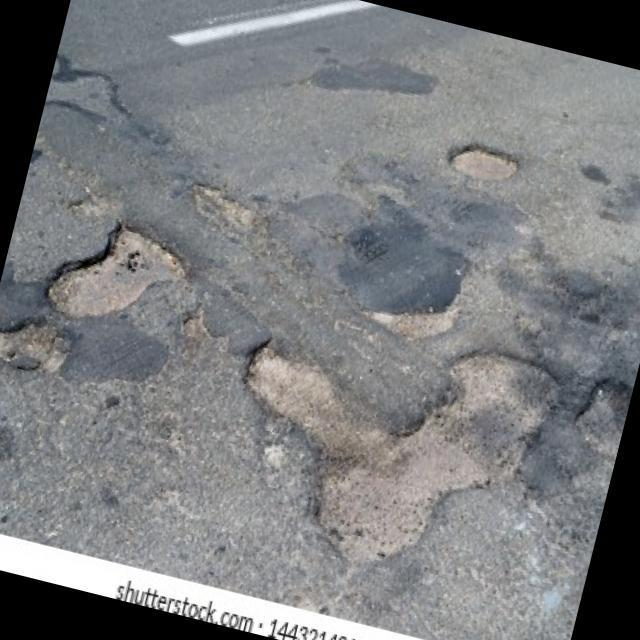Pothole: (205, 291, 566, 602), (41, 206, 190, 342), (356, 283, 463, 353), (563, 368, 634, 459), (0, 306, 75, 381), (178, 178, 261, 235), (444, 138, 522, 191), (177, 301, 239, 353)
